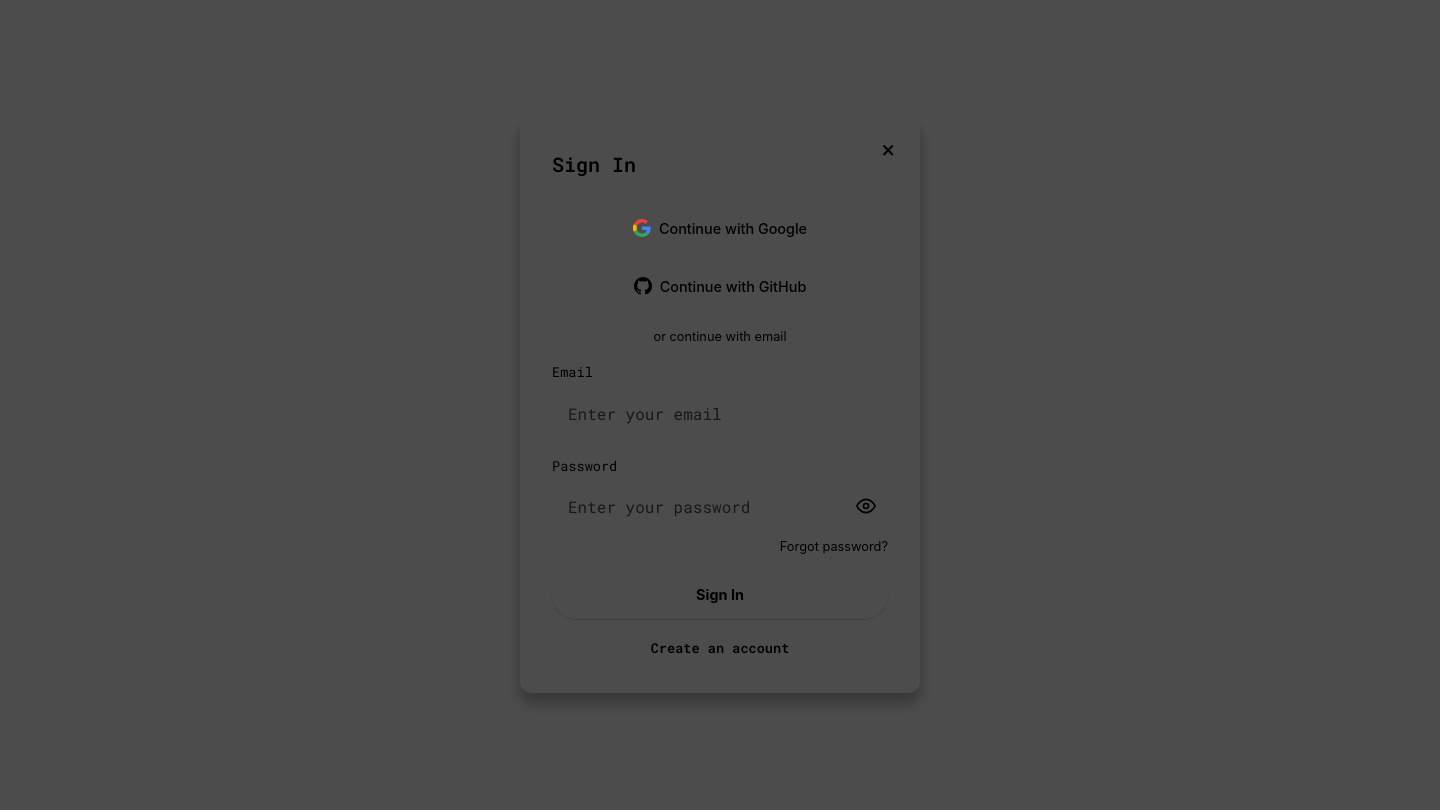
AuthModal › shows error when sign in fails
The image size is (1440, 810).
In the field labelled "Email": (720, 413) [552,387,888,440], type "bad@example.com"
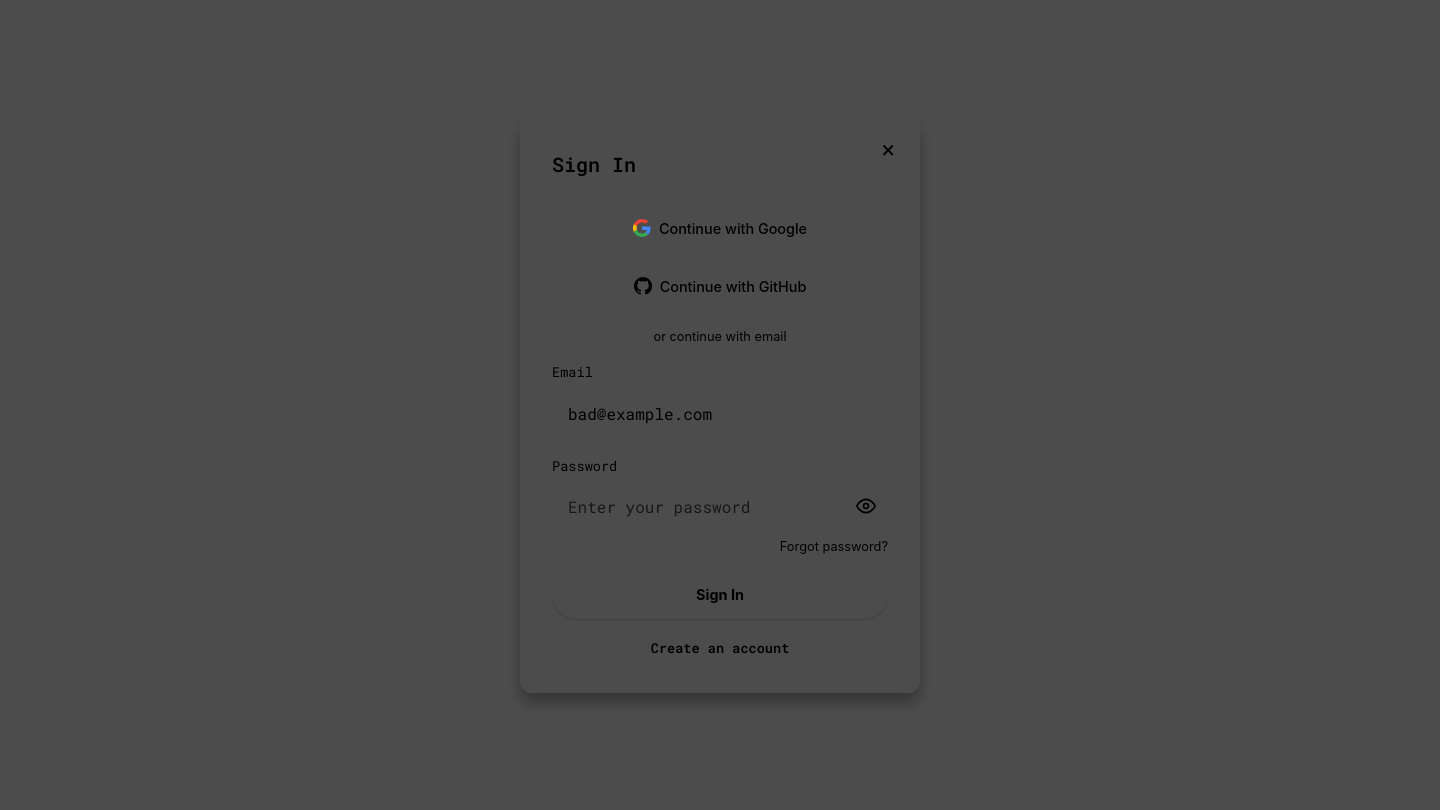
In the password field labelled "Password": (720, 506) [552,480,888,533], type "wrong"
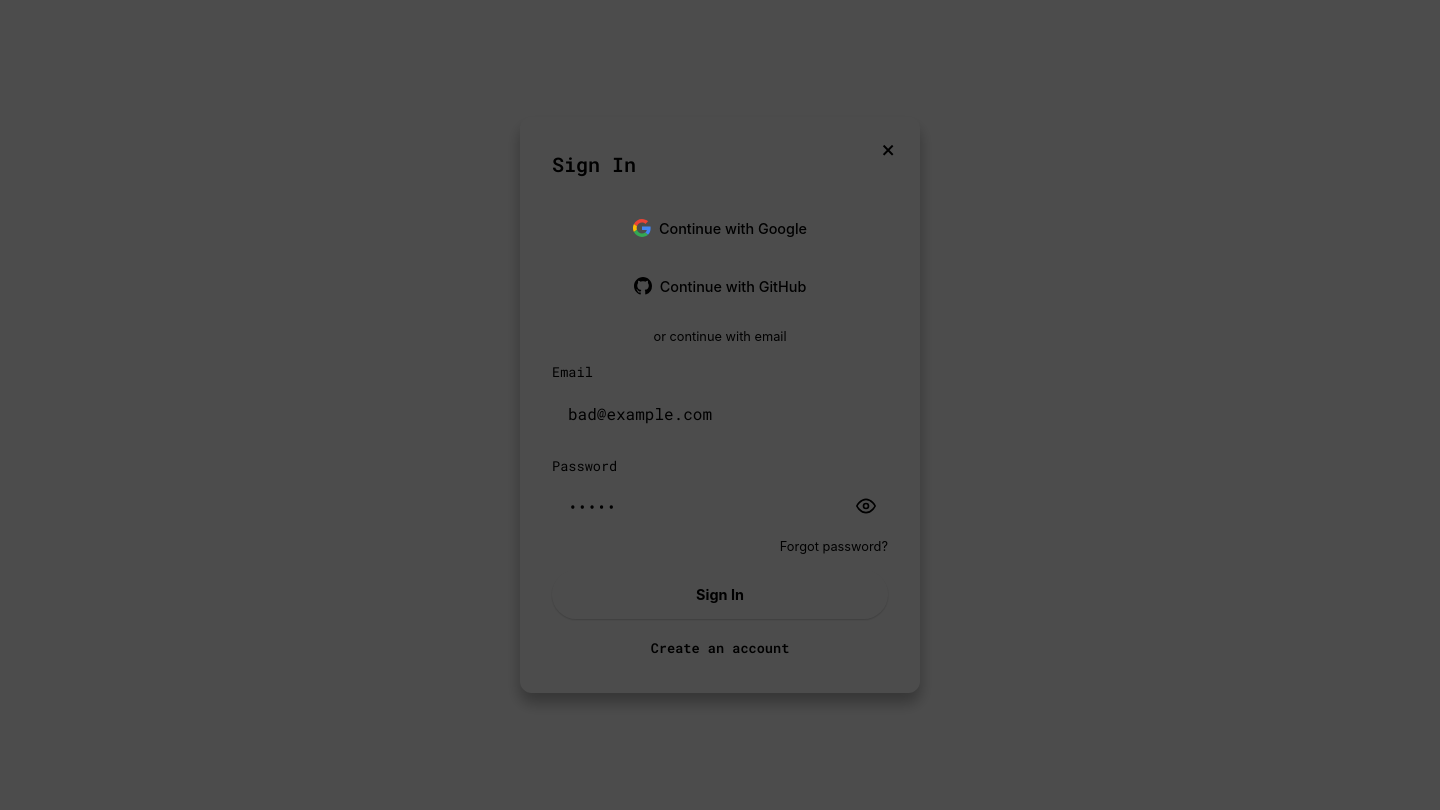
Click the button "Sign In": (720, 594) [552,570,888,619]
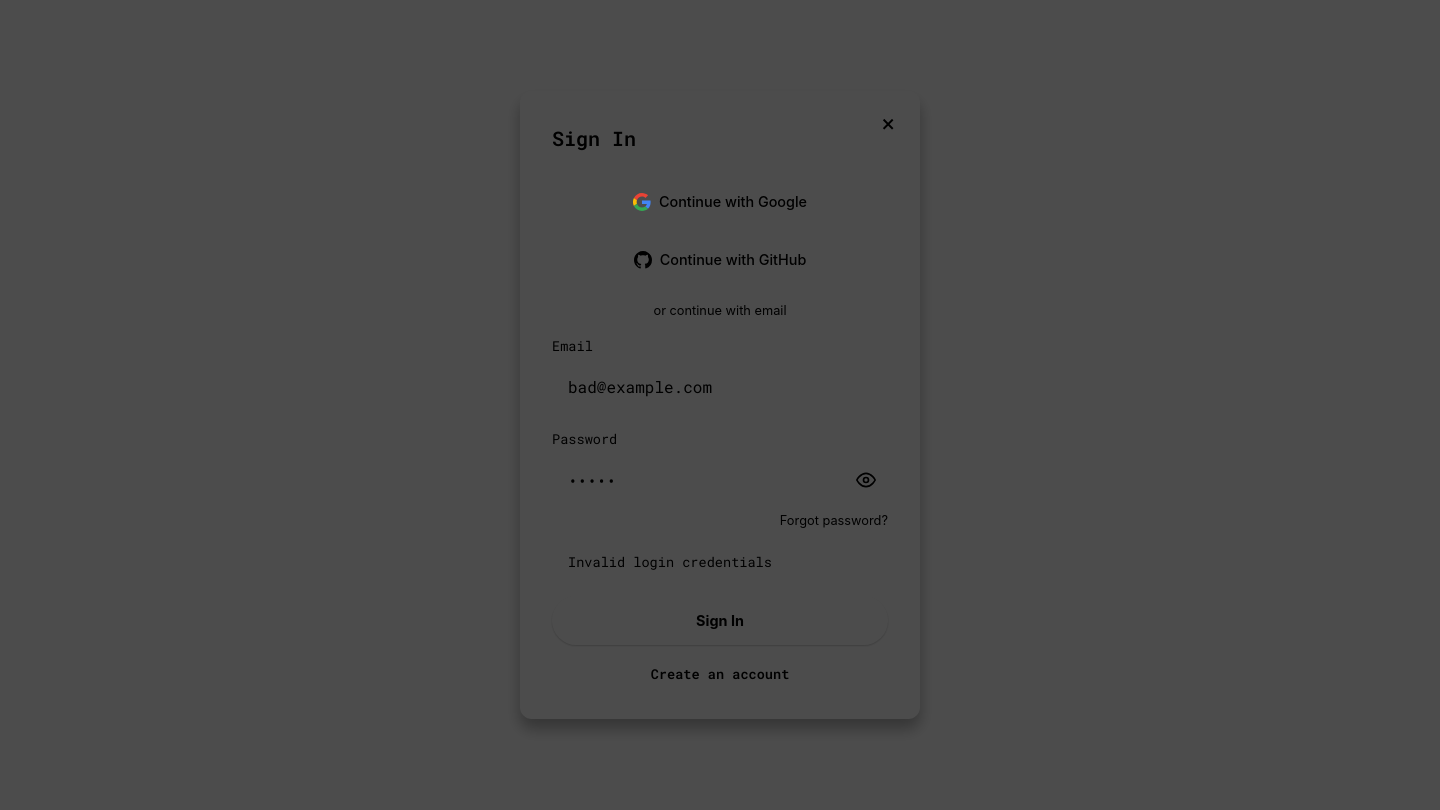
Now the text "Invalid login credentials" is shown, box [568,553,772,571]
